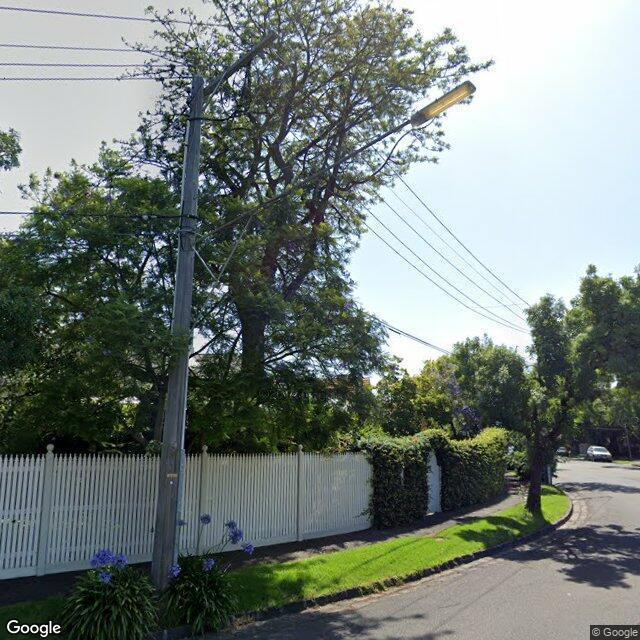crossarm: (186, 30, 278, 106)
streetlight: (191, 80, 476, 248)
timber-pole: (150, 78, 204, 590)
